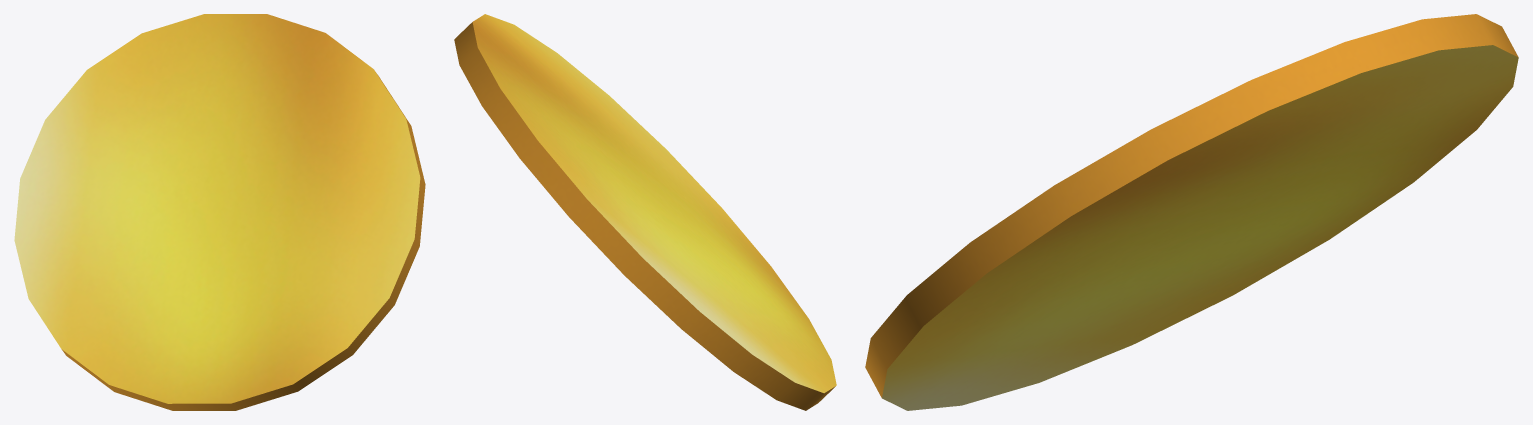
Rendered from Coin_2.fbx.
3 renders of one model, left to right at view 1: azimuth 30°, elevation 25°; view 2: azimuth 150°, elevation 25°; view 3: azimuth 270°, elevation 25°, orthographic. The views are drawn at different scales.
Parts seen in each view (by area): view 1: Coins__2; view 2: Coins__2; view 3: Coins__2.
Boxes of the visible parts, <box> form: Coins__2: <box>14,14,425,410</box>; Coins__2: <box>454,14,836,410</box>; Coins__2: <box>865,14,1518,410</box>.
Size of the model in its own units: 2.06 by 1.81 by 2.17.
1 material, 1 textured.
